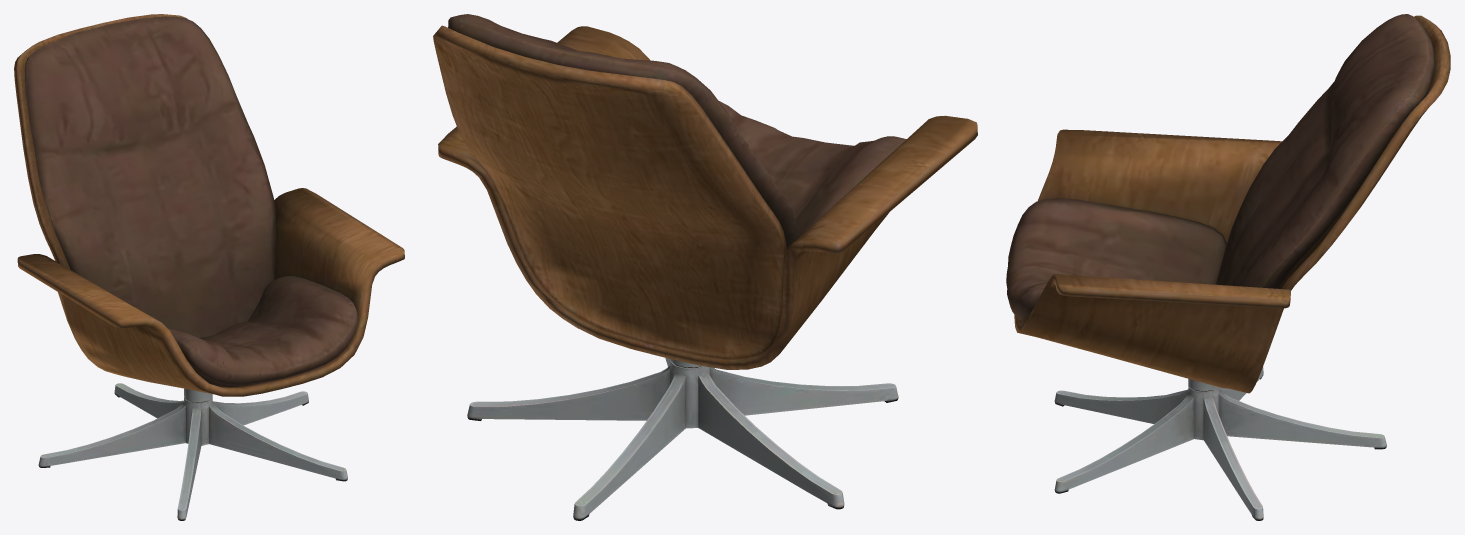
Rendered from mid_century_lounge_chair.glb.
The picture shows the model from 3 angles, left to right: view 1: azimuth 30°, elevation 25°; view 2: azimuth 150°, elevation 25°; view 3: azimuth 270°, elevation 25°; orthographic projection. The views are drawn at different scales.
Visible parts, largest first — view 1: mid_century_lounge_chair; view 2: mid_century_lounge_chair; view 3: mid_century_lounge_chair.
Boxes of the visible parts, x1,y1,x2,y2 form: mid_century_lounge_chair: (14, 14, 404, 520); mid_century_lounge_chair: (433, 14, 977, 520); mid_century_lounge_chair: (1006, 14, 1450, 520).
Bounding box in the file's own units: 1.01 × 1.17 × 1.19.
1 material, 1 textured.
